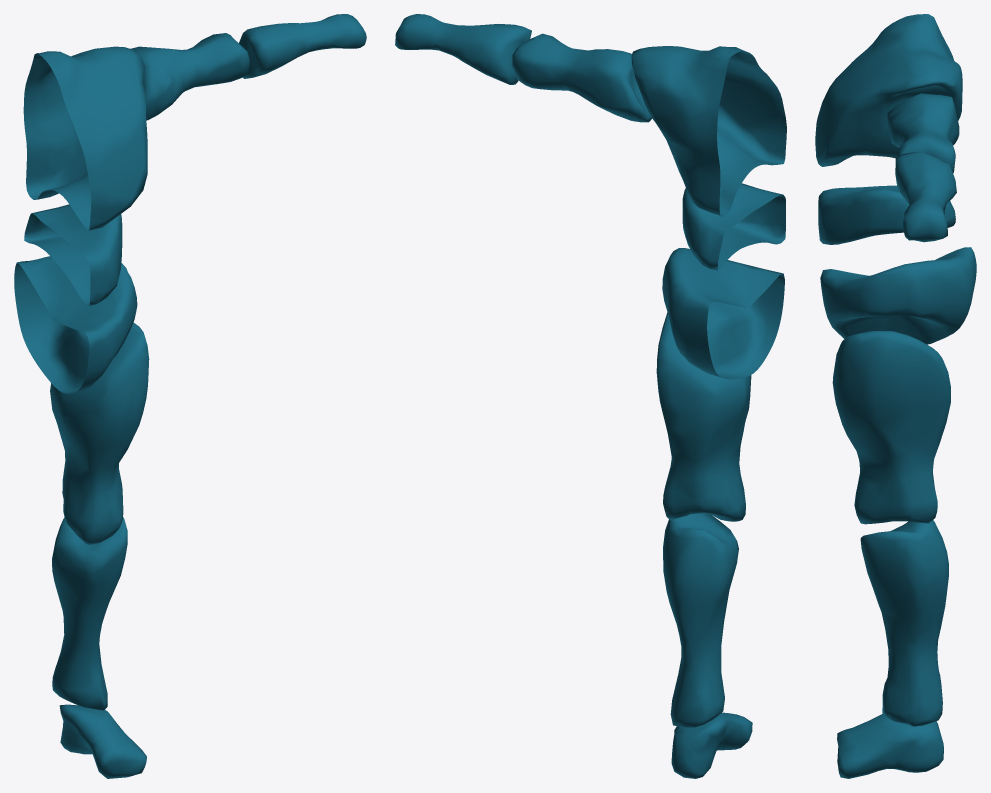
File: Alpha_Body_Mesh_opt.obj
3 renders of one model, left to right at view 1: azimuth 30°, elevation 25°; view 2: azimuth 150°, elevation 25°; view 3: azimuth 270°, elevation 25°, orthographic. The views are drawn at different scales.
Size of the model in its own units: 73.59 by 155 by 30.88.
